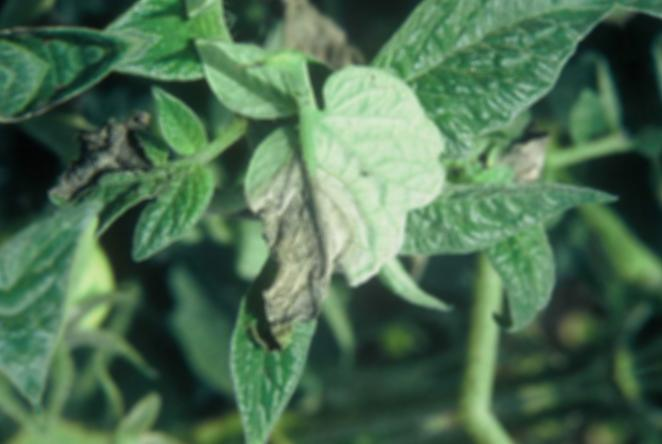Tomato leaf late blight: (131, 18, 517, 444)
